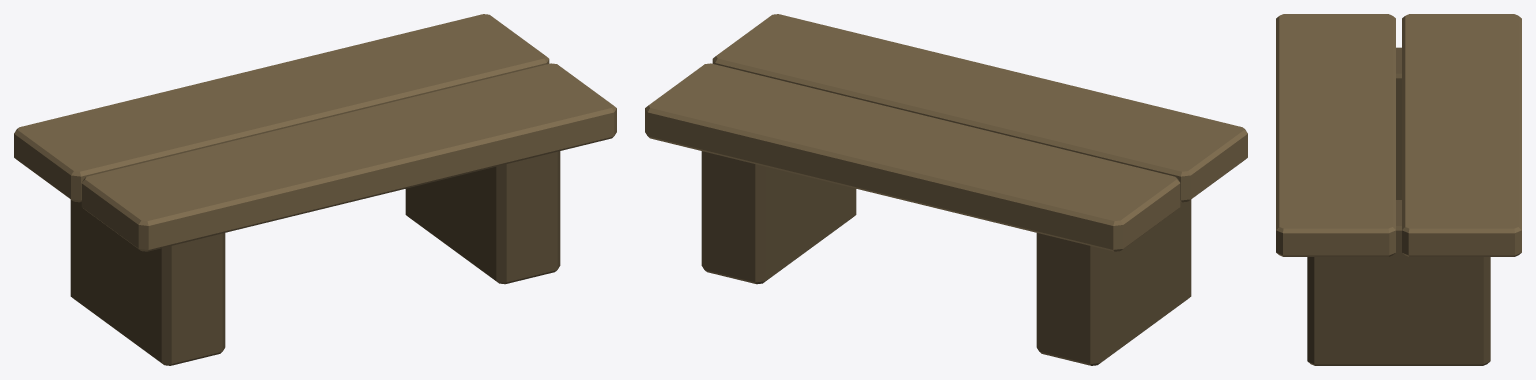
Rendered from timber-seat.glb.
3 renders of one model, left to right at view 1: azimuth 30°, elevation 25°; view 2: azimuth 150°, elevation 25°; view 3: azimuth 270°, elevation 25°, orthographic. The views are drawn at different scales.
Visible parts, largest first — view 1: timber-seat__body; view 2: timber-seat__body; view 3: timber-seat__body.
Part boxes in pixels (<box>): timber-seat__body: <box>14,14,616,365</box>; timber-seat__body: <box>645,14,1247,365</box>; timber-seat__body: <box>1276,14,1521,365</box>.
Bounding box in the file's own units: 0.9 × 0.3 × 0.43.
